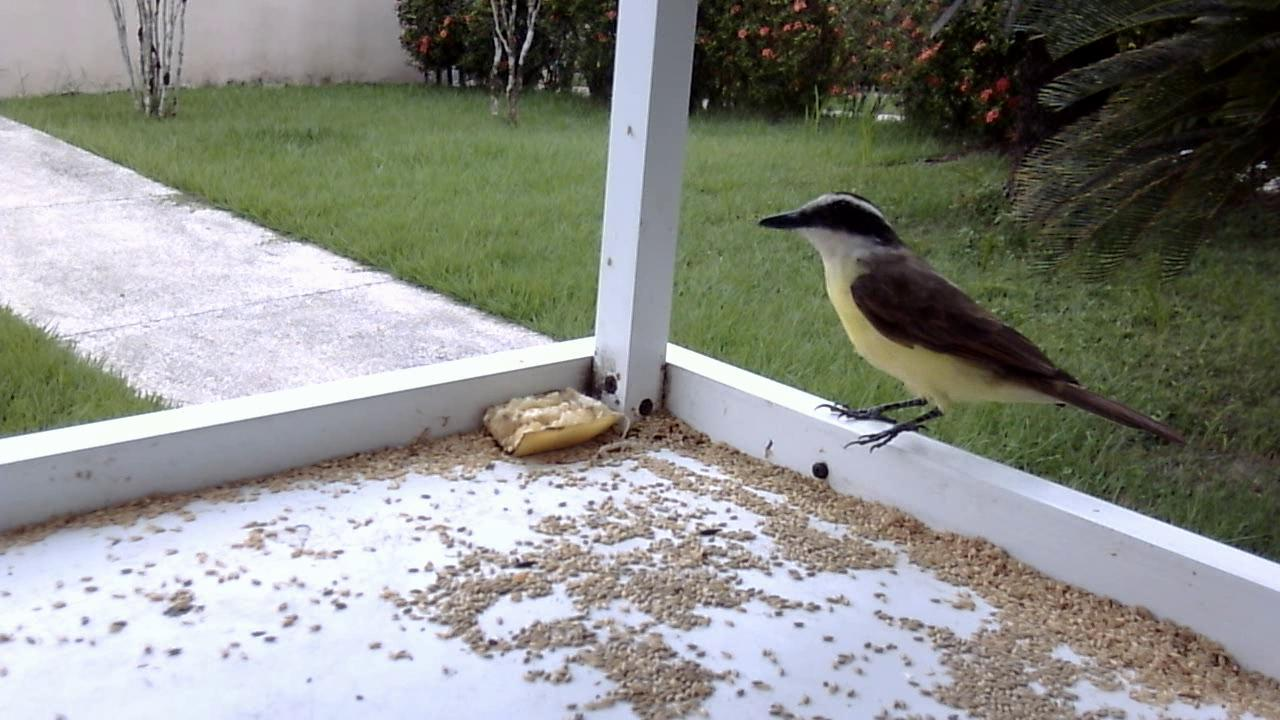bem_te_vi: (740, 178, 1198, 482)
